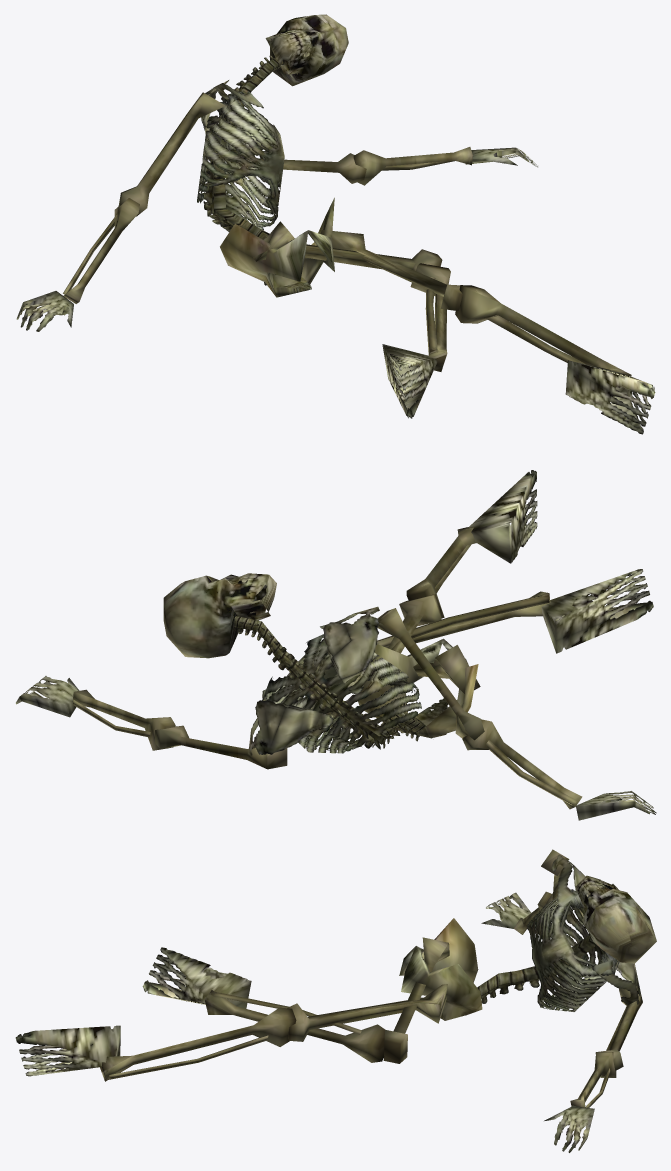
Rendered from ORC_SKELETON_V2.glb.
3 views of the same model, one above another, from view 1: azimuth 30°, elevation 25°; view 2: azimuth 150°, elevation 25°; view 3: azimuth 270°, elevation 25° (orthographic). The views are drawn at different scales.
Visible parts, largest first — view 1: Mesh; view 2: Mesh; view 3: Mesh.
Part boxes in pixels (x1,y1,x2,y2): Mesh: (16, 14, 655, 434); Mesh: (16, 470, 656, 820); Mesh: (15, 849, 656, 1152).
Bounding box in the file's own units: 1.46 × 0.4789 × 1.58.
2 materials, 2 textured.
